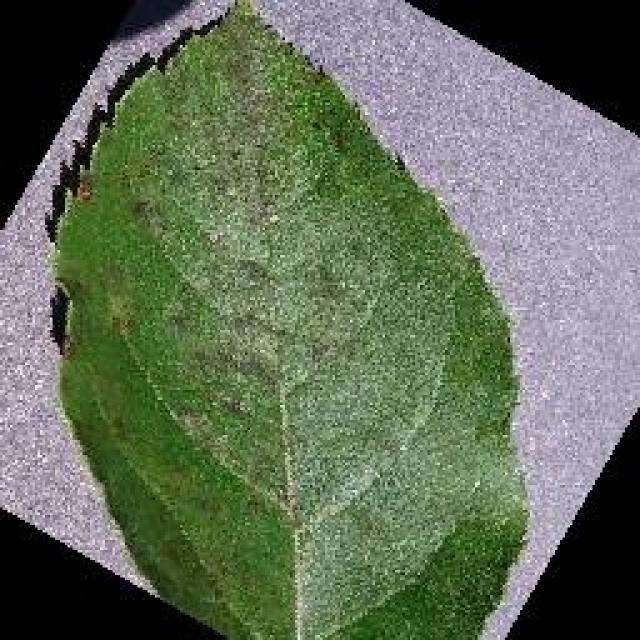apple scab disease: (45, 0, 535, 638)
